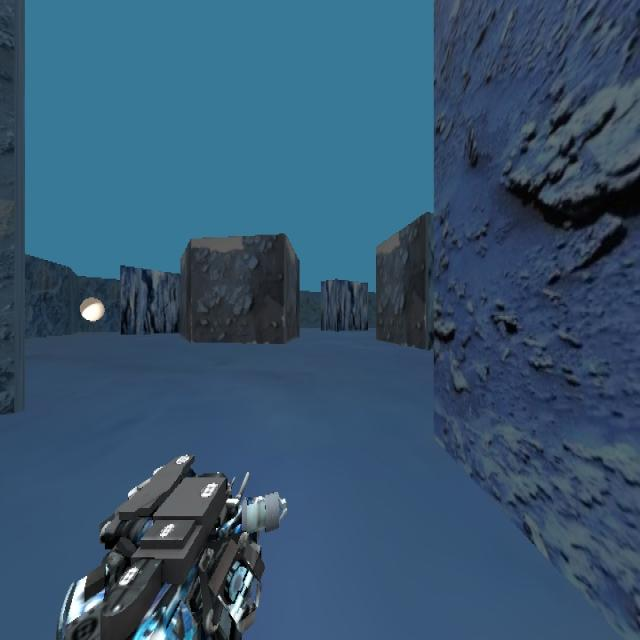Circle: (78, 296, 105, 323)
